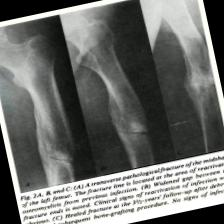pathological-fracture: (0, 0, 224, 191)
